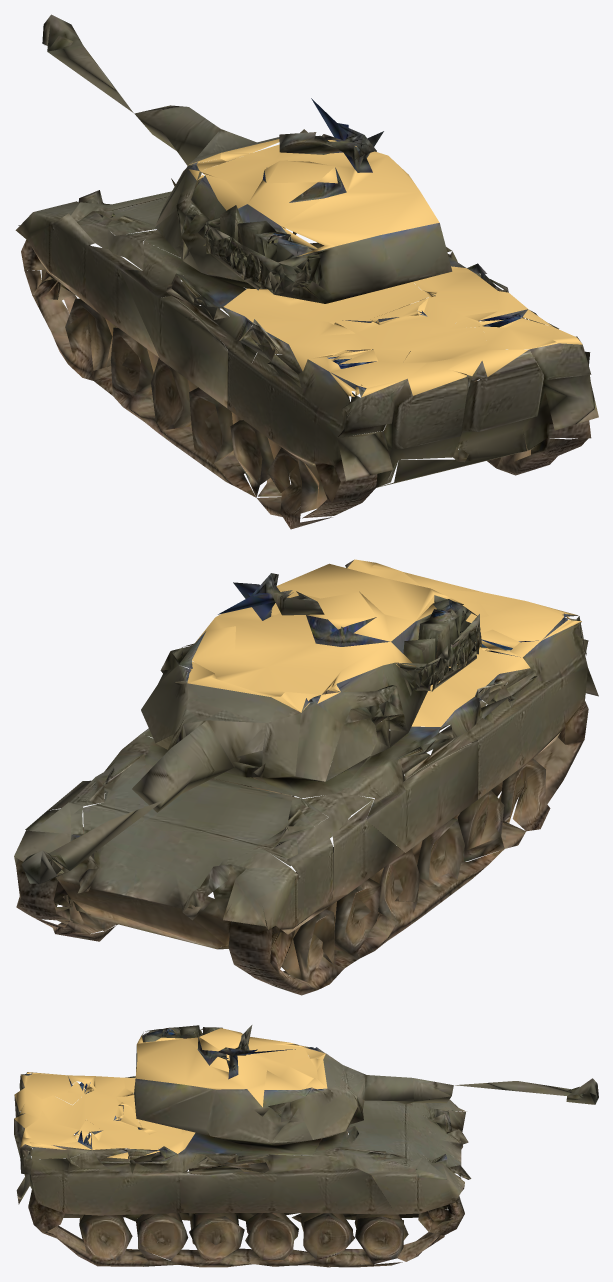
File: tank.glb
The picture shows the model from 3 angles, top to bottom: view 1: azimuth 30°, elevation 25°; view 2: azimuth 150°, elevation 25°; view 3: azimuth 270°, elevation 25°; orthographic projection. The views are drawn at different scales.
Parts seen in each view (by area): view 1: Hull, Turret; view 2: Hull, Turret; view 3: Hull, Turret.
Part boxes in pixels (x1,y1,x2,y2): Hull: (15,161,598,529); Turret: (42,14,452,303); Hull: (14,559,598,995); Turret: (21,563,482,883); Hull: (14,1072,471,1267); Turret: (134,1025,598,1143).
Bounding box in the file's own units: 0.6071 × 0.6481 × 1.75.
Materials: 2 (1 with a texture image).
